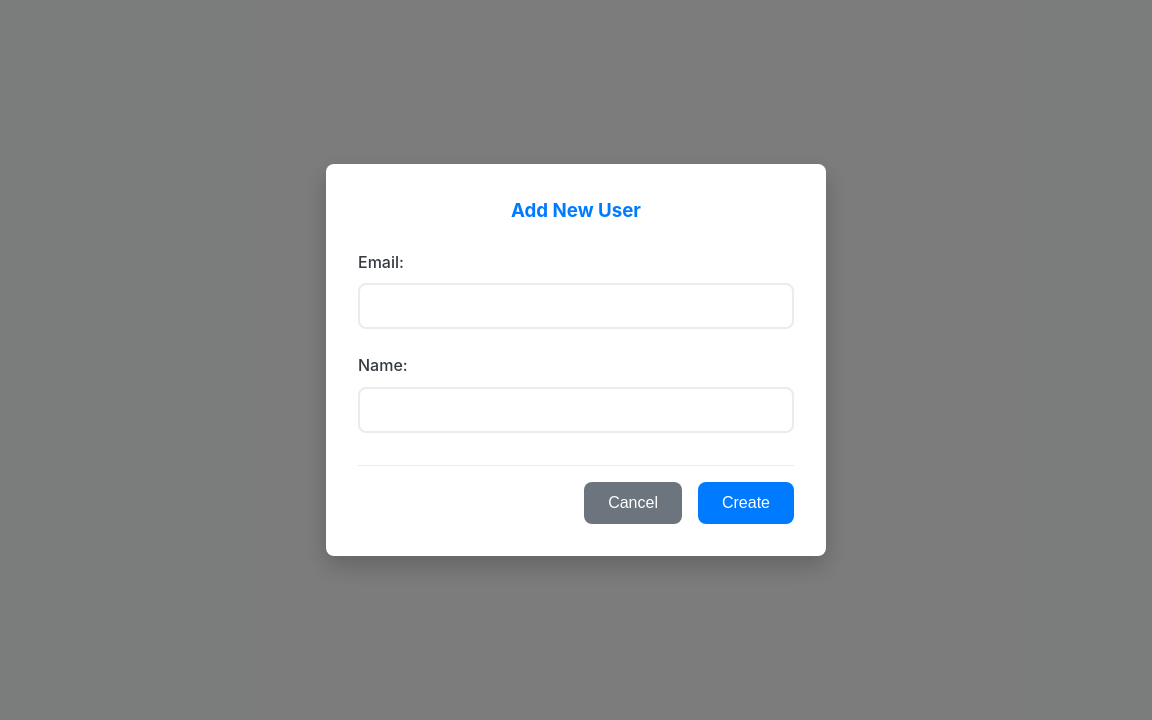
UserForm › clears errors when user starts typing
This screenshot has width=1152, height=720.
Note: Submit to trigger validation
Click the button "Create". click: (746, 503)
box: x1=698 y1=482 x2=794 y2=524
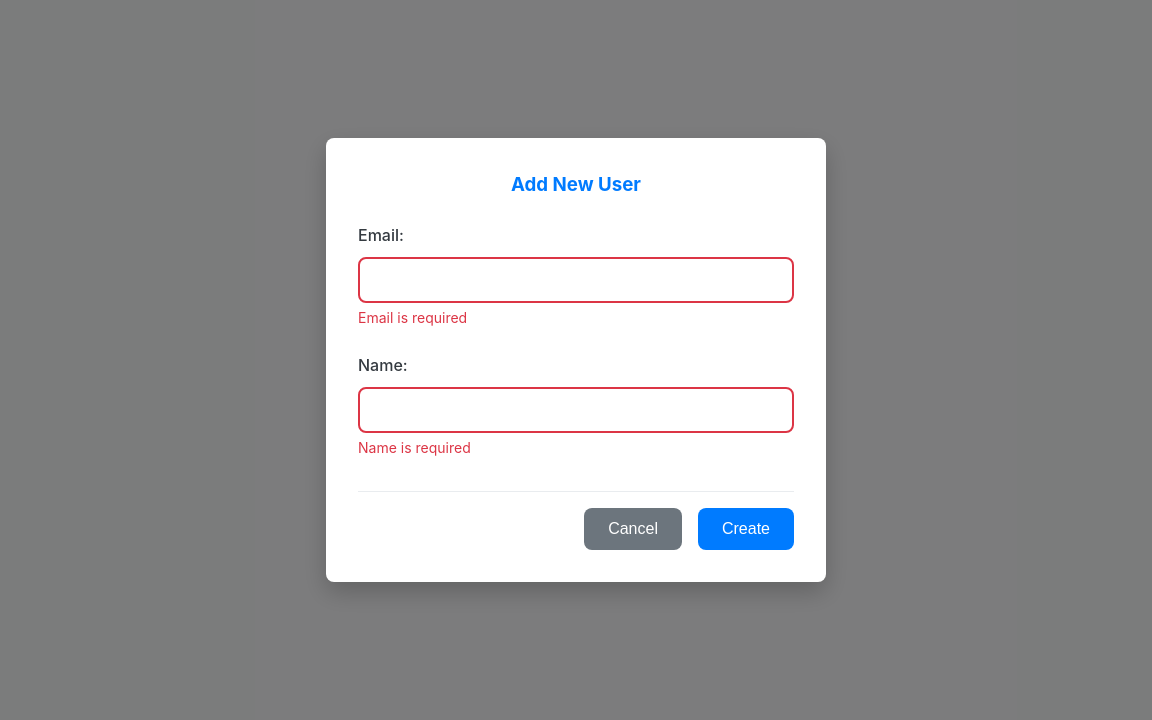
Result: the text "Email is required" is shown at x1=358 y1=309 x2=467 y2=326
Note: Start typing to clear error
Type "test@example.com" into the field labelled "Email:". click: (576, 280)
box: x1=358 y1=257 x2=794 y2=303
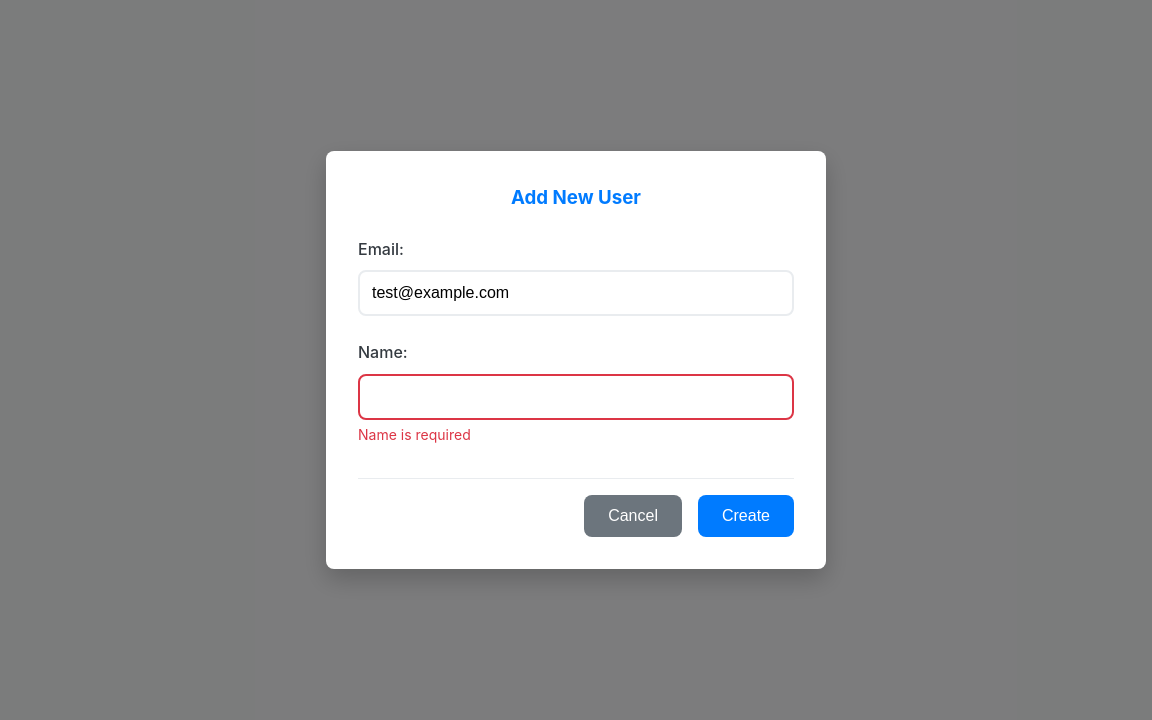
Result: the text "Email is required" is gone
